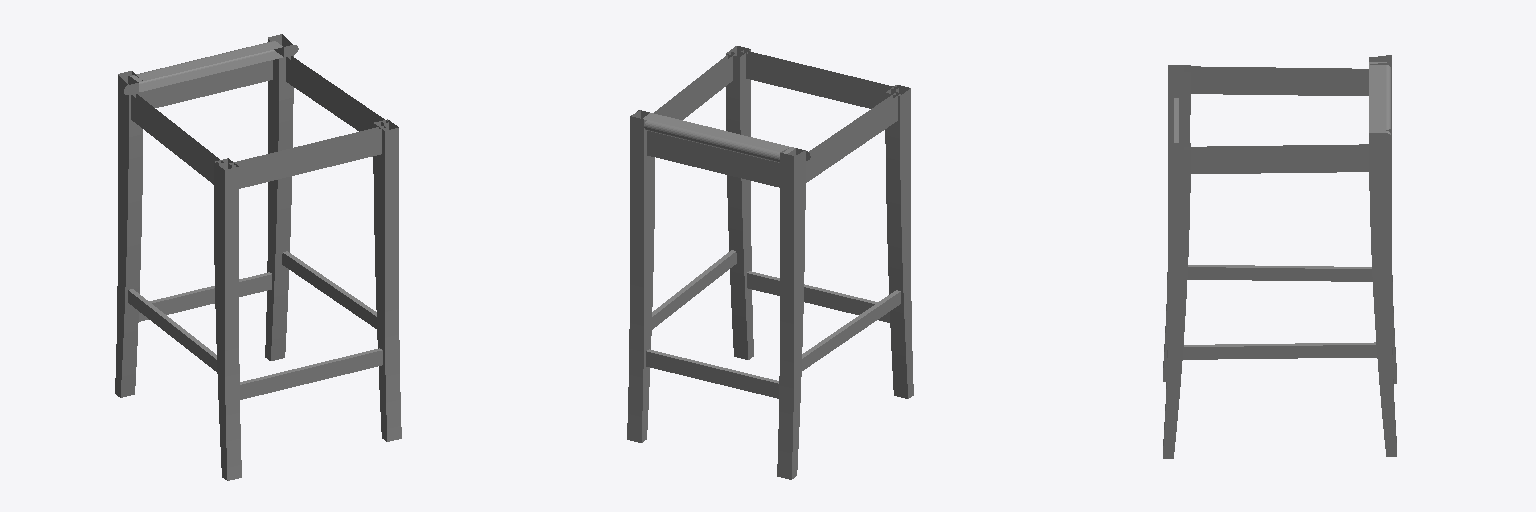
The model's file is leg.obj.
3 views of the same model, side by side, from view 1: azimuth 30°, elevation 25°; view 2: azimuth 150°, elevation 25°; view 3: azimuth 270°, elevation 25° (orthographic).
Visible parts, largest first — view 1: leg; view 2: leg; view 3: leg.
Boxes of the visible parts, x1=… form: leg: x1=115, y1=34, x2=401, y2=480; leg: x1=627, y1=46, x2=913, y2=479; leg: x1=1163, y1=55, x2=1396, y2=458.
Bounding box in the file's own units: 14.2 × 25 × 16.54.